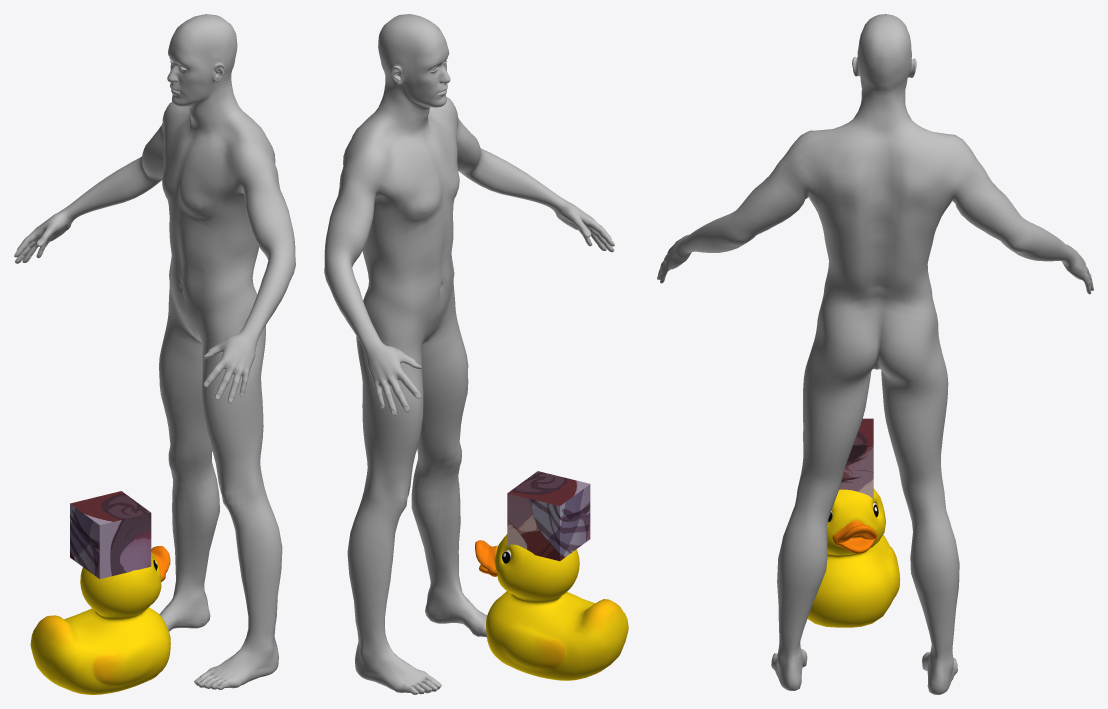
File: Duck2.gltf
3 renders of one model, left to right at view 1: azimuth 30°, elevation 25°; view 2: azimuth 150°, elevation 25°; view 3: azimuth 270°, elevation 25°, orthographic. The views are drawn at different scales.
Parts seen in each view (by area): view 1: LOD3spShape.001; view 2: LOD3spShape.001; view 3: LOD3spShape.001.
Boxes of the visible parts, x1,y1,x2,y2 form: LOD3spShape.001: [14, 14, 295, 694]; LOD3spShape.001: [324, 14, 628, 694]; LOD3spShape.001: [657, 14, 1093, 694].
Bounding box in the file's own units: 2.92 × 7.5 × 4.46.
Materials: 3 (2 with a texture image).
